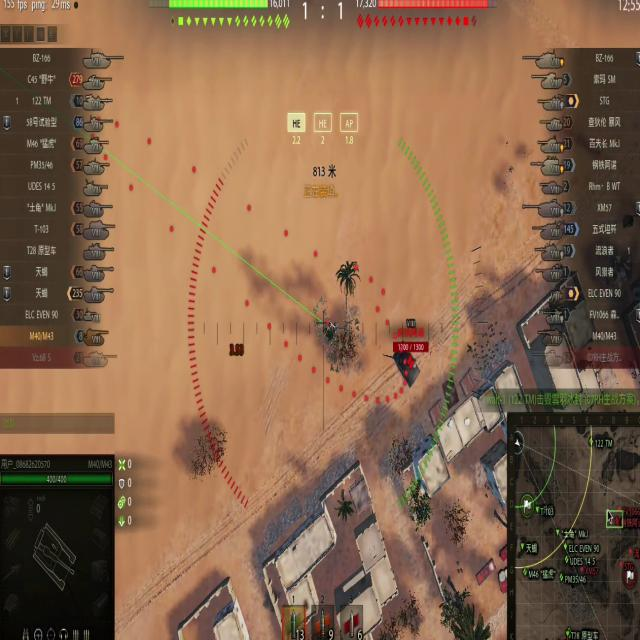tank: (390, 341, 426, 387)
